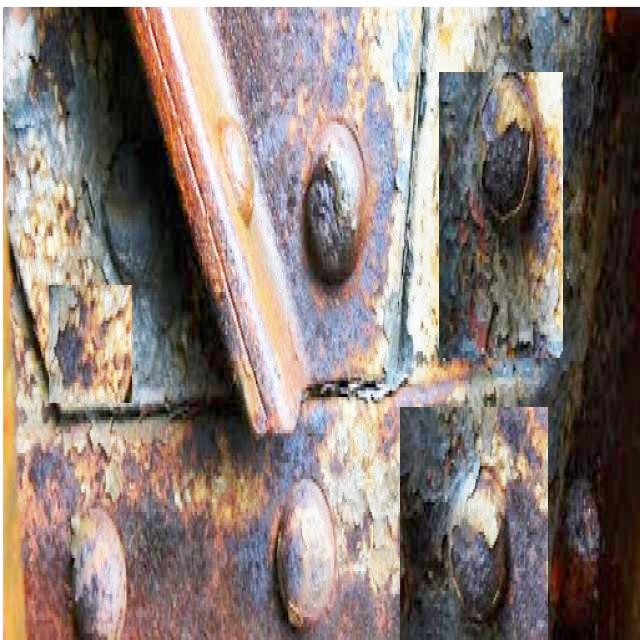Corrosion: (131, 8, 311, 434), (74, 457, 400, 640), (362, 8, 476, 370), (304, 379, 549, 546), (7, 151, 131, 405), (18, 400, 241, 502), (440, 175, 563, 359), (214, 8, 360, 154), (18, 445, 126, 640), (253, 137, 331, 320), (402, 435, 460, 640), (502, 409, 549, 640), (358, 102, 398, 366), (312, 273, 385, 382), (441, 72, 477, 200), (455, 608, 524, 640)
